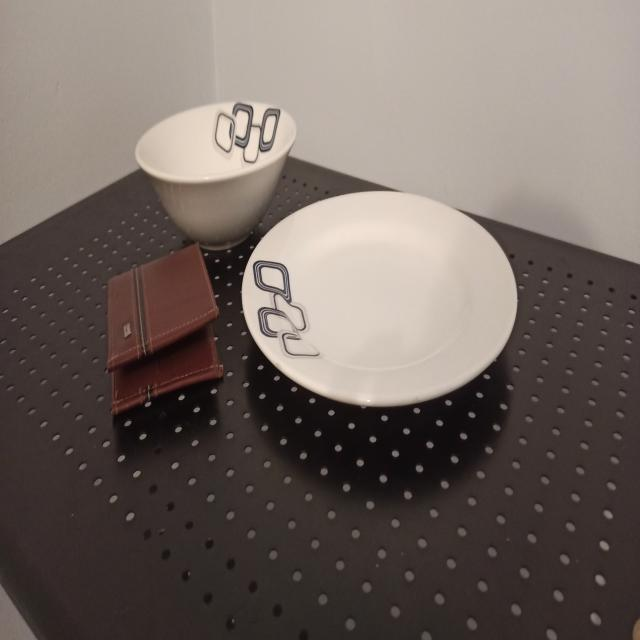non-organic waste: (218, 163, 548, 439), (99, 51, 302, 253)
